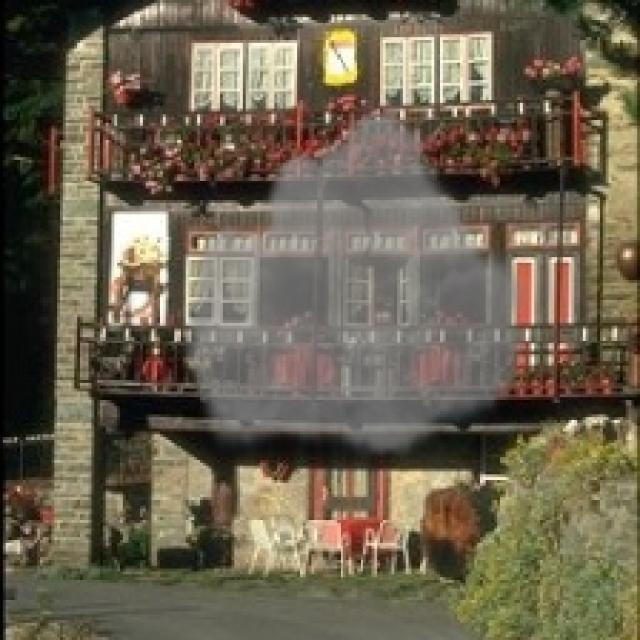Smoke: (177, 97, 537, 460)
